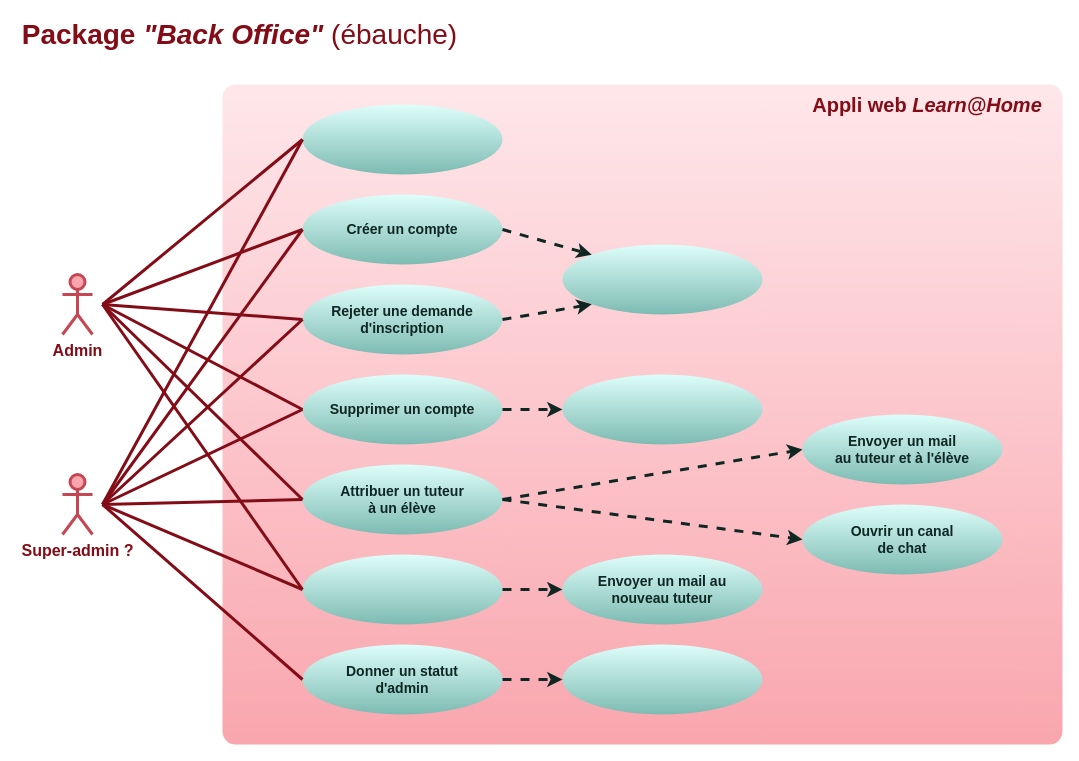
This 1079x761 diagram has some shape labels left out. The shapes that lost their labels are listed below. From the top down, each one's centre as x and y in pixels, then its label:
At point 402,139: "Consulter les demandes d'inscription".
At point 662,279: "Envoyer un mail au demandeur".
At point 662,409: "Envoyer un mail au titulaire".
At point 402,589: "Donner un statut de tuteur".
At point 662,679: "Envoyer un mail au nouvel admin".
